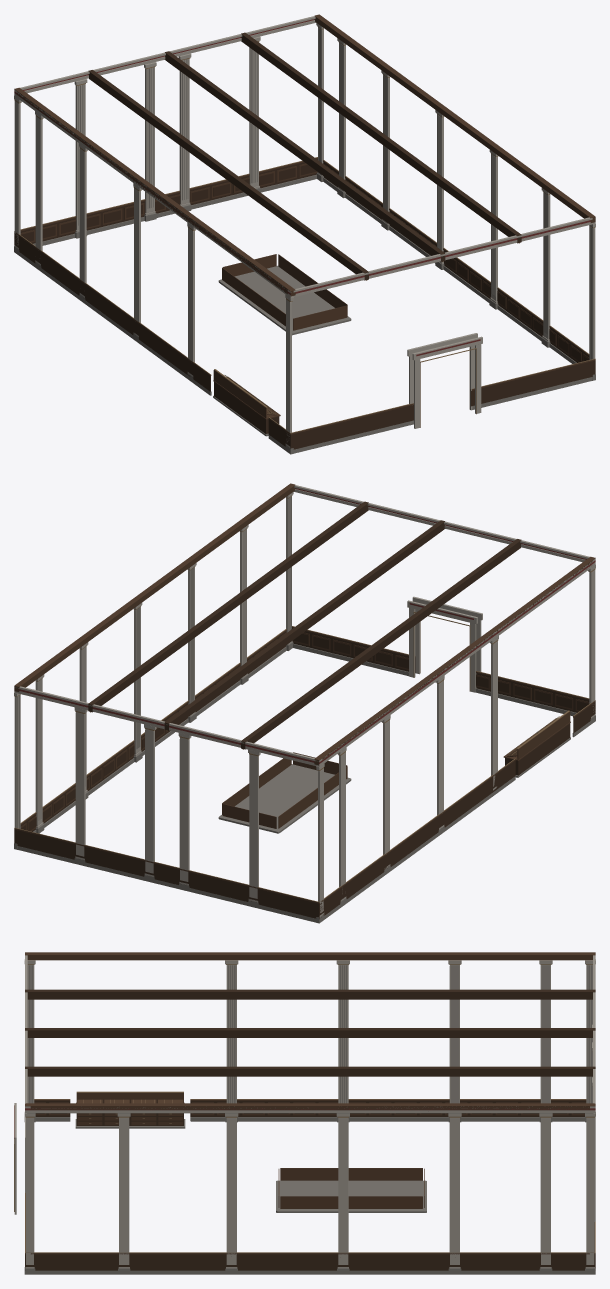
The model's file is rewrite.glb.
3 renders of one model, top to bottom at view 1: azimuth 30°, elevation 25°; view 2: azimuth 150°, elevation 25°; view 3: azimuth 270°, elevation 25°, orthographic. The views are drawn at different scales.
Visible parts, largest first — view 1: m5_rewrite; view 2: m5_rewrite; view 3: m5_rewrite.
Part boxes in pixels (x1=…): m5_rewrite: x1=14, y1=14, x2=595, y2=454; m5_rewrite: x1=14, y1=483, x2=595, y2=923; m5_rewrite: x1=14, y1=952, x2=595, y2=1274.
Bounding box in the file's own units: 17.6 × 9 × 28.15.
